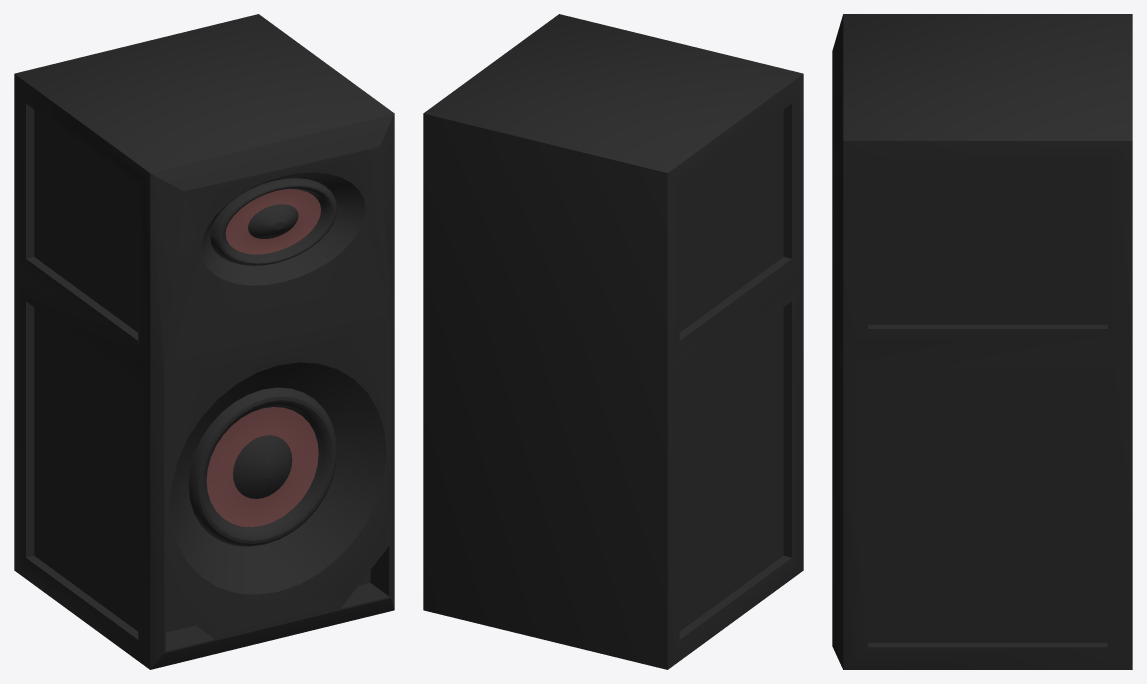
File: Enceinte.fbx
The picture shows the model from 3 angles, left to right: view 1: azimuth 30°, elevation 25°; view 2: azimuth 150°, elevation 25°; view 3: azimuth 270°, elevation 25°; orthographic projection. The views are drawn at different scales.
Parts seen in each view (by area): view 1: Cube.005; view 2: Cube.005; view 3: Cube.005.
Boxes of the visible parts, x1,y1,x2,y2 form: Cube.005: [14, 14, 394, 669]; Cube.005: [423, 14, 803, 669]; Cube.005: [832, 14, 1132, 669].
Size of the model in its own units: 60.23 by 117 by 60.23.
